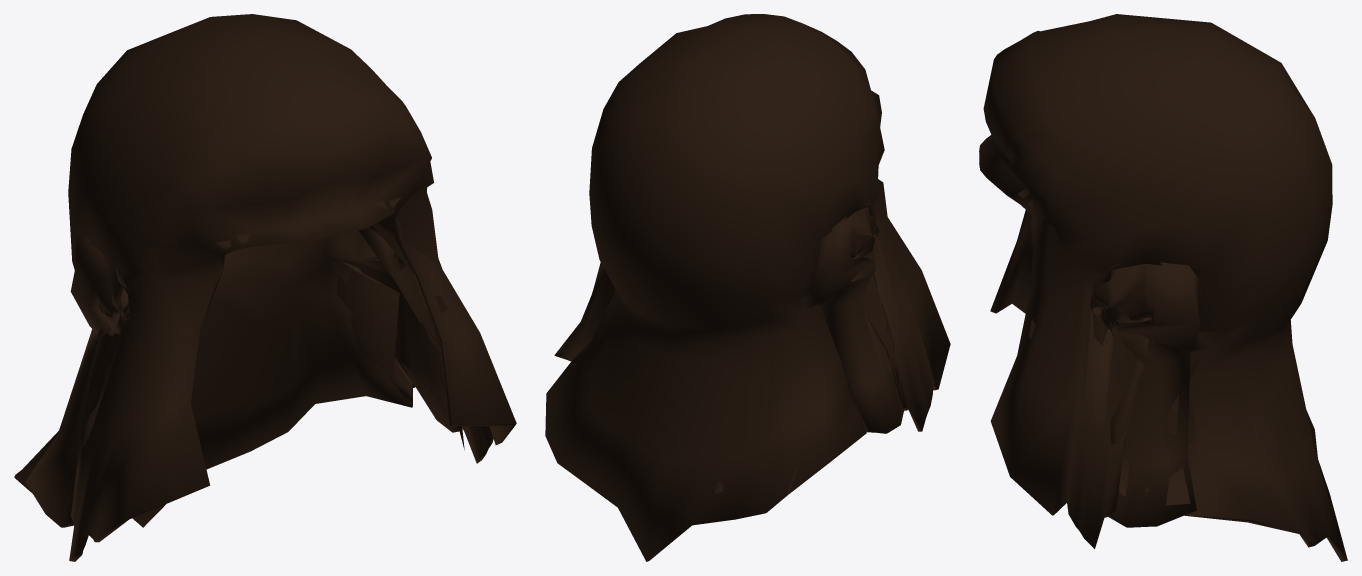
The model's file is hair_volume.glb.
The picture shows the model from 3 angles, left to right: view 1: azimuth 30°, elevation 25°; view 2: azimuth 150°, elevation 25°; view 3: azimuth 270°, elevation 25°; orthographic projection. The views are drawn at different scales.
Parts seen in each view (by area): view 1: hair_volume; view 2: hair_volume; view 3: hair_volume.
Boxes of the visible parts, <box> form: hair_volume: <box>14,14,516,561</box>; hair_volume: <box>545,14,950,561</box>; hair_volume: <box>979,14,1347,561</box>.
Bounding box in the file's own units: 0.3393 × 0.4483 × 0.282.
